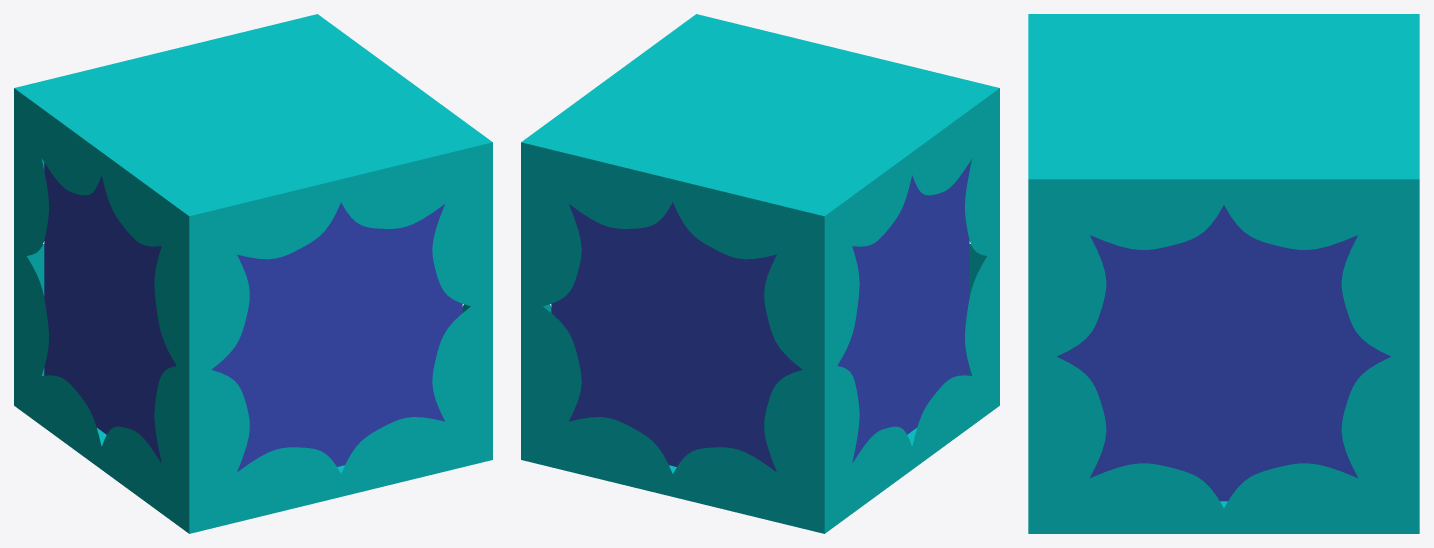
3 renders of one model, left to right at view 1: azimuth 30°, elevation 25°; view 2: azimuth 150°, elevation 25°; view 3: azimuth 270°, elevation 25°, orthographic. The views are drawn at different scales.
Visible parts, largest first — view 1: Cube; view 2: Cube; view 3: Cube.
Part boxes in pixels (x1,y1,x2,y2): Cube: (14,14,492,533); Cube: (521,14,999,533); Cube: (1028,14,1419,533).
Size of the model in its own units: 107 by 107 by 107.
